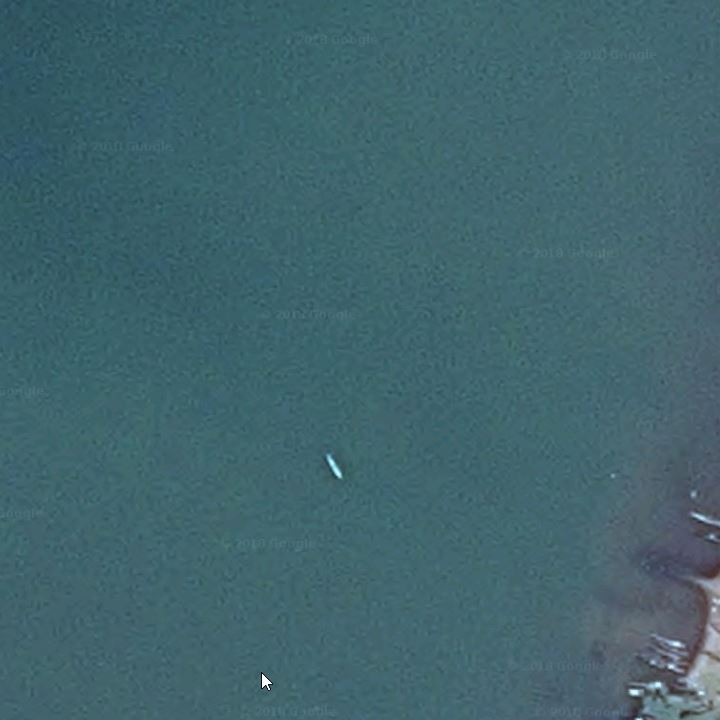boat: (319, 445, 352, 485), (643, 627, 695, 651), (636, 654, 690, 676), (647, 644, 688, 664), (683, 510, 720, 529)
